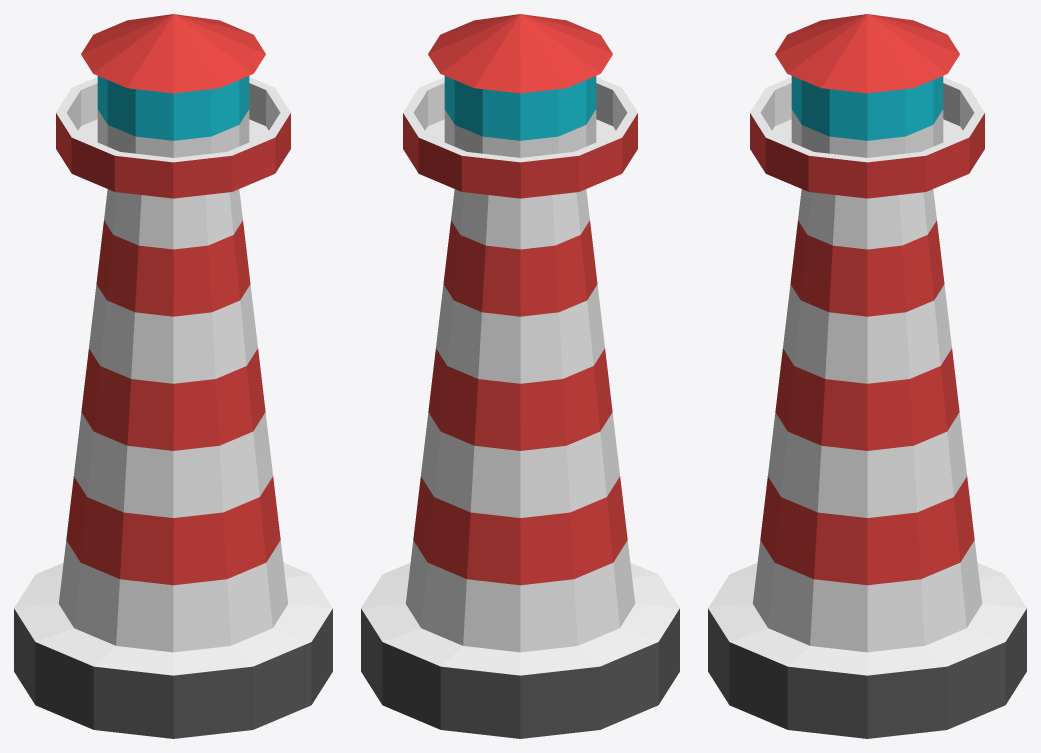
Rendered from majak.glb.
The picture shows the model from 3 angles, left to right: view 1: azimuth 30°, elevation 25°; view 2: azimuth 150°, elevation 25°; view 3: azimuth 270°, elevation 25°; orthographic projection.
Parts seen in each view (by area): view 1: Lighthouse.002; view 2: Lighthouse.002; view 3: Lighthouse.002.
Part boxes in pixels (bbox=[...]): Lighthouse.002: bbox=[14, 14, 332, 738]; Lighthouse.002: bbox=[361, 14, 679, 738]; Lighthouse.002: bbox=[708, 14, 1026, 738].
Size of the model in its own units: 0.9774 by 2.22 by 0.9774.
